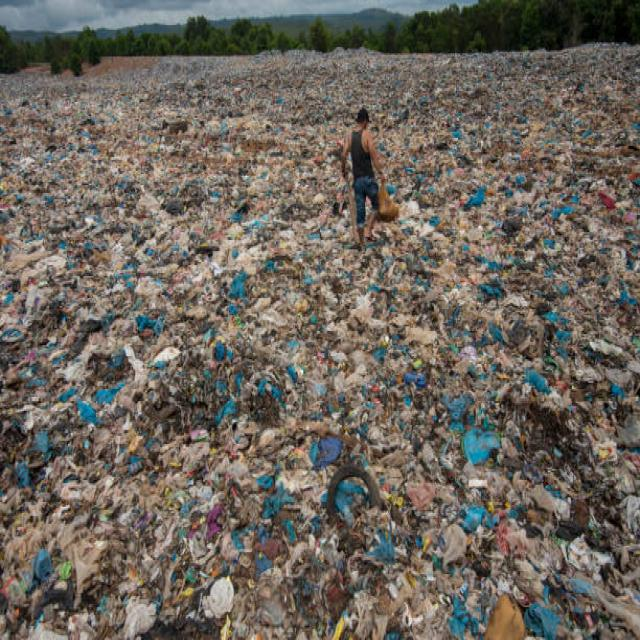plastic: (14, 79, 632, 610), (45, 281, 640, 604)
trash: (374, 184, 412, 228)
